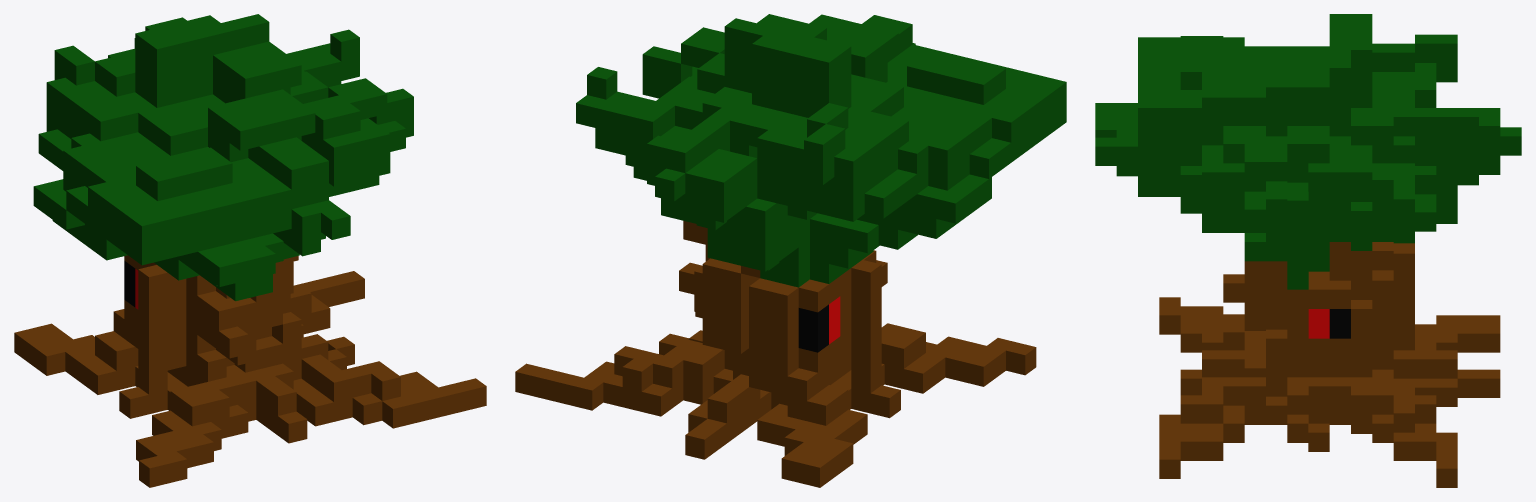
Rendered from Treemonster.obj.
3 renders of one model, left to right at view 1: azimuth 30°, elevation 25°; view 2: azimuth 150°, elevation 25°; view 3: azimuth 270°, elevation 25°, orthographic. The views are drawn at different scales.
Size of the model in its own units: 2 by 1.8 by 2.
1 material, 1 textured.
